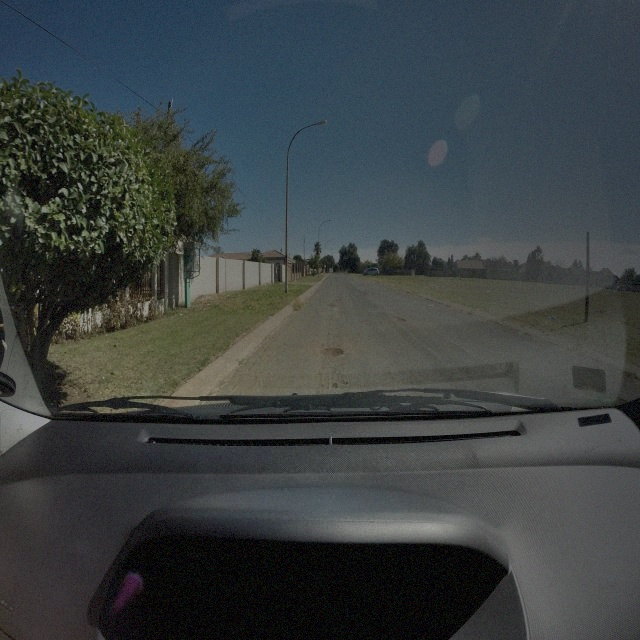pothole: (322, 349, 344, 359), (327, 301, 339, 309), (394, 317, 406, 324)
